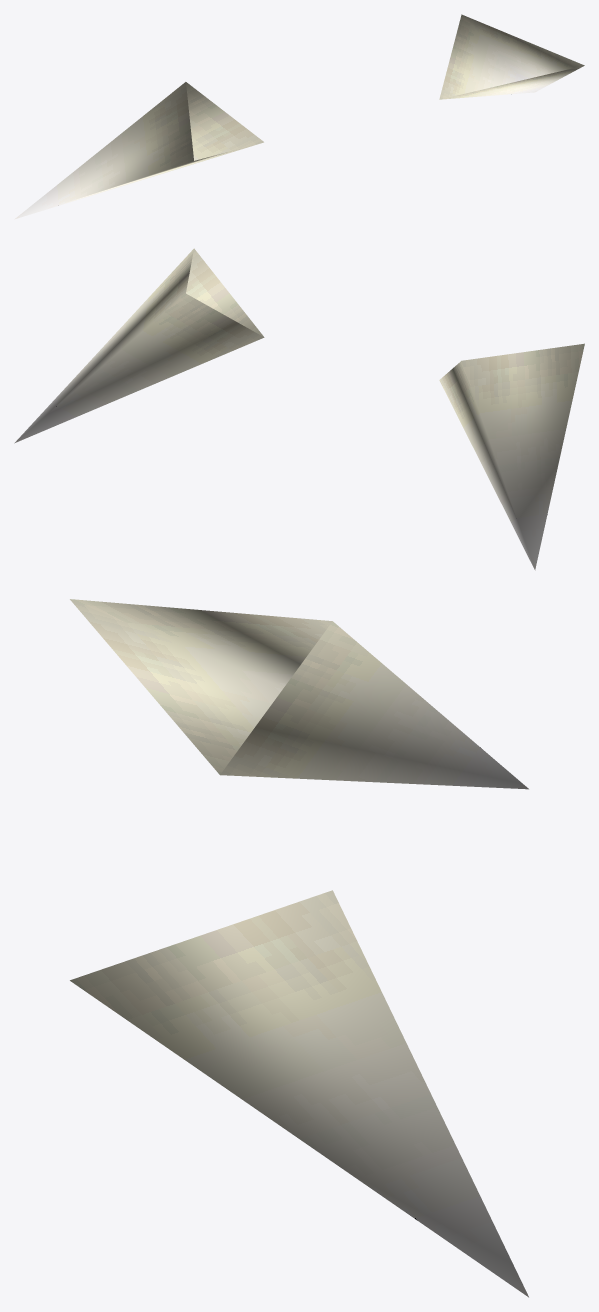
Rendered from cavalry_e_war_elephant_tusks_standard.glb.
3 renders of one model, top to bottom at view 1: azimuth 30°, elevation 25°; view 2: azimuth 150°, elevation 25°; view 3: azimuth 270°, elevation 25°, orthographic. The views are drawn at different scales.
Visible parts, largest first — view 1: MeshRoot; view 2: MeshRoot; view 3: MeshRoot.
Part boxes in pixels (bbox=[...]): MeshRoot: bbox=[14, 14, 584, 219]; MeshRoot: bbox=[14, 248, 584, 570]; MeshRoot: bbox=[70, 599, 528, 1297].
Size of the model in its own units: 1.08 by 0.2847 by 0.4121.
1 material, 1 textured.
